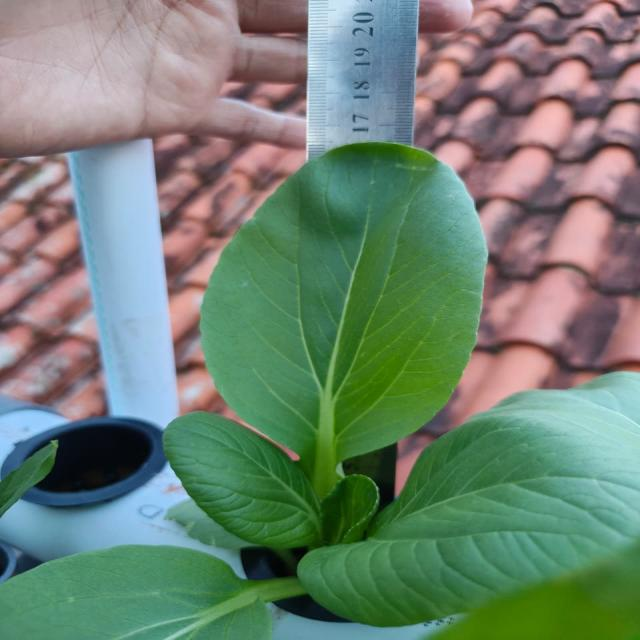daun-pakcoy: (201, 144, 485, 468), (298, 372, 639, 626), (0, 546, 271, 640), (164, 412, 321, 548), (322, 474, 379, 546)
